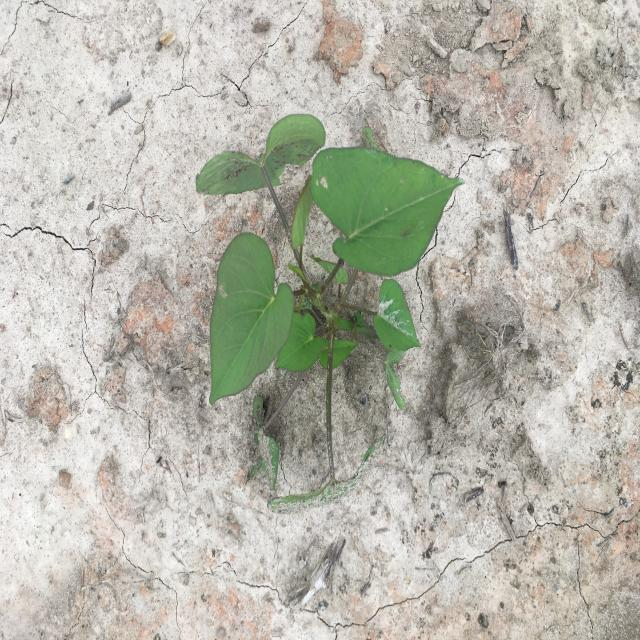MorningGlory: (195, 113, 466, 515)
